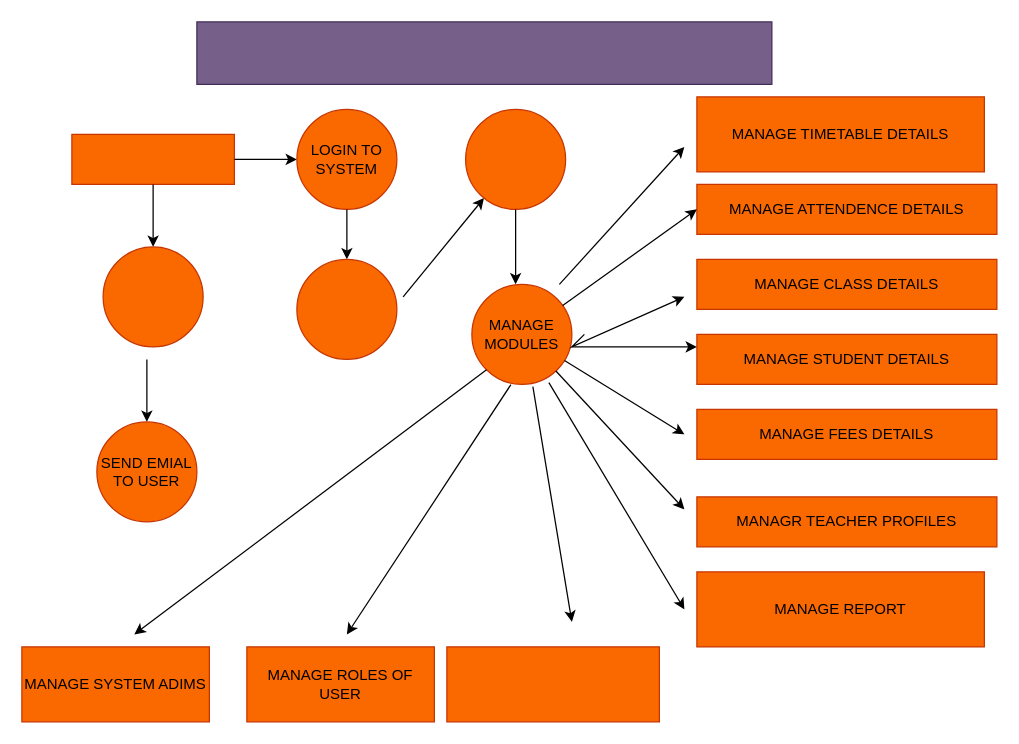
This 1019x744 diagram has some shape labels left out. The shapes that lost their labels are listed below. From the top down, each one's centre as x and y in pixels, then its label:
At [484,52]: "student Information system".
At [152,158]: "ADMIN".
At [515,158]: "CHECK ROLE OF ACCESS".
At [152,296]: "FORGET PASSWORD".
At [346,308]: "CHECK CREDENTIALS".
At [552,684]: "MANAGE USER PERMISSION".
